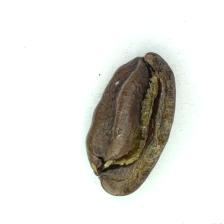NG: (108, 58, 163, 175)
